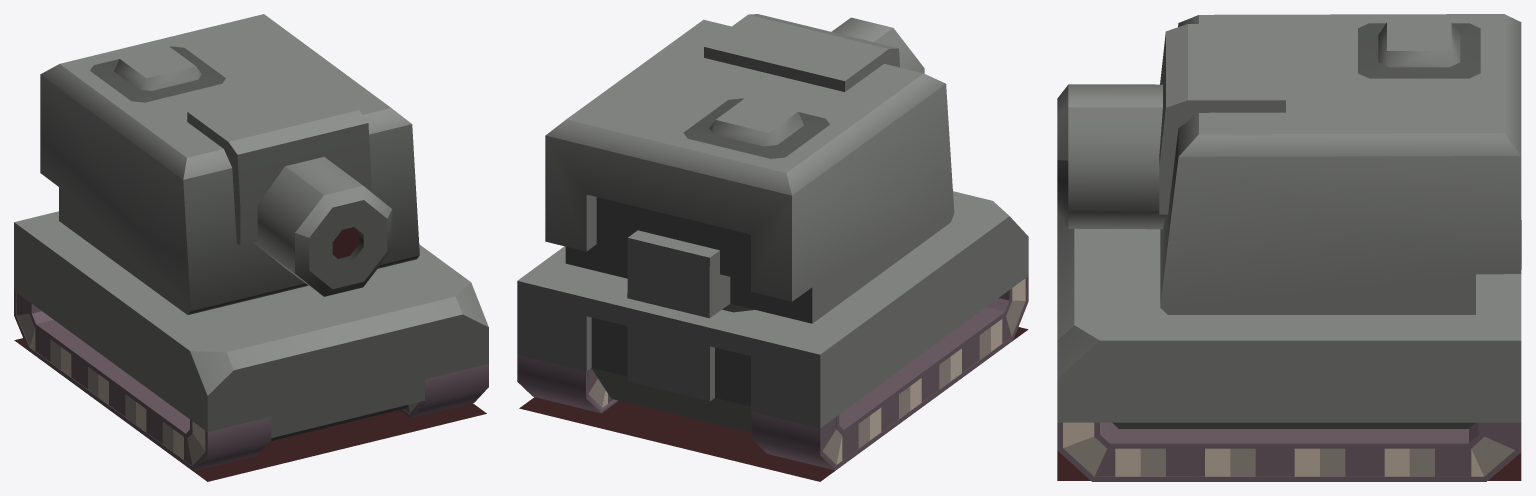
The model's file is MediumTankMesh.GreySky.glb.
The picture shows the model from 3 angles, left to right: view 1: azimuth 30°, elevation 25°; view 2: azimuth 150°, elevation 25°; view 3: azimuth 270°, elevation 25°; orthographic projection. The views are drawn at different scales.
Visible parts, largest first — view 1: MediumTankMesh.GreySky; view 2: MediumTankMesh.GreySky; view 3: MediumTankMesh.GreySky.
Part boxes in pixels (<box>): MediumTankMesh.GreySky: <box>14,14,488,481</box>; MediumTankMesh.GreySky: <box>517,14,1028,481</box>; MediumTankMesh.GreySky: <box>1057,14,1521,481</box>.
Size of the model in its own units: 1.72 by 1.66 by 2.05.
Materials: 1 (1 with a texture image).
